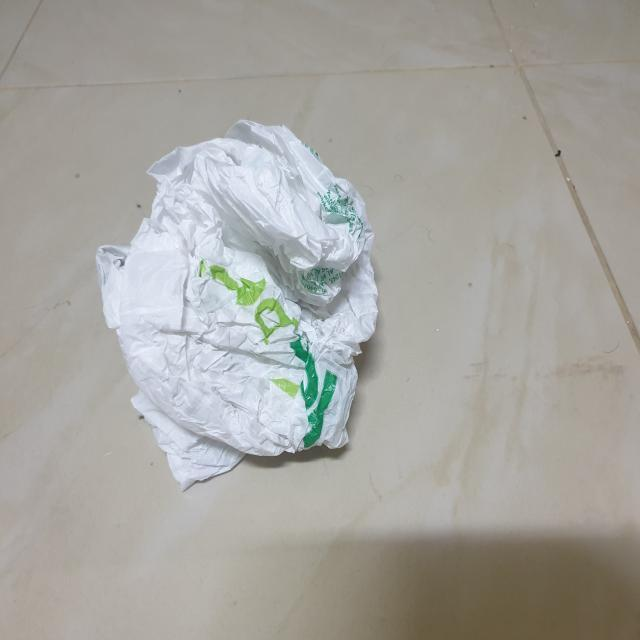Plastic_Bag: (91, 106, 388, 517)
